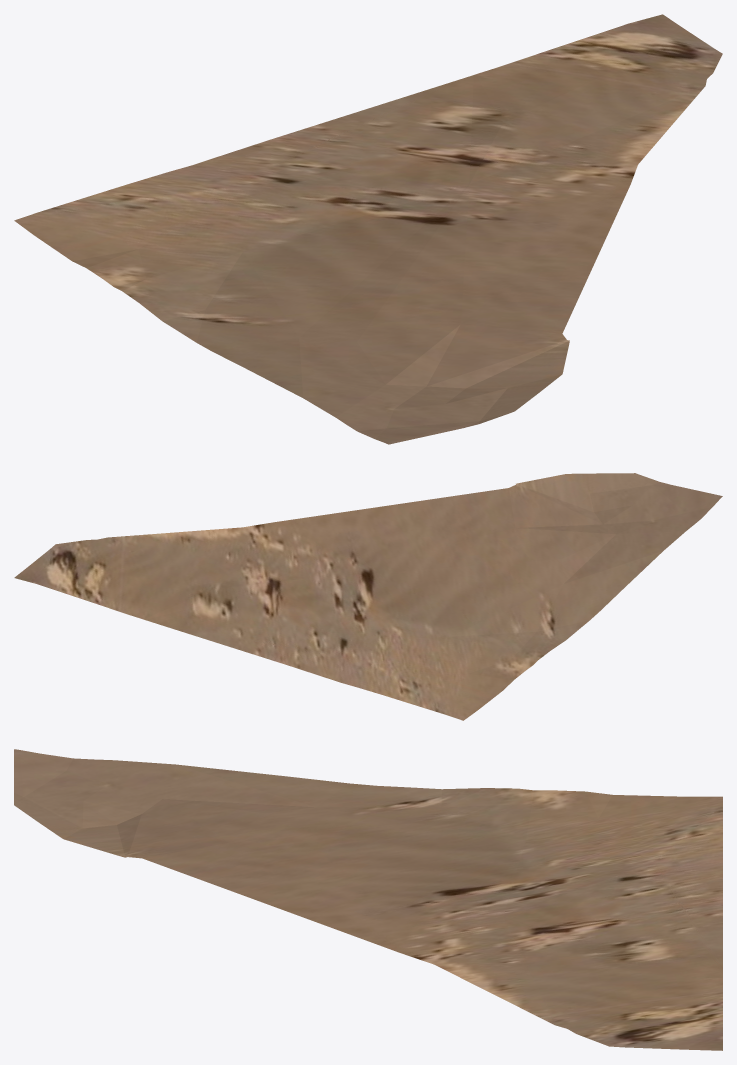
3 views of the same model, one above another, from view 1: azimuth 30°, elevation 25°; view 2: azimuth 150°, elevation 25°; view 3: azimuth 270°, elevation 25° (orthographic). The views are drawn at different scales.
Size of the model in its own units: 2.09 by 0.1619 by 2.09.
Materials: 2 (2 with a texture image).
